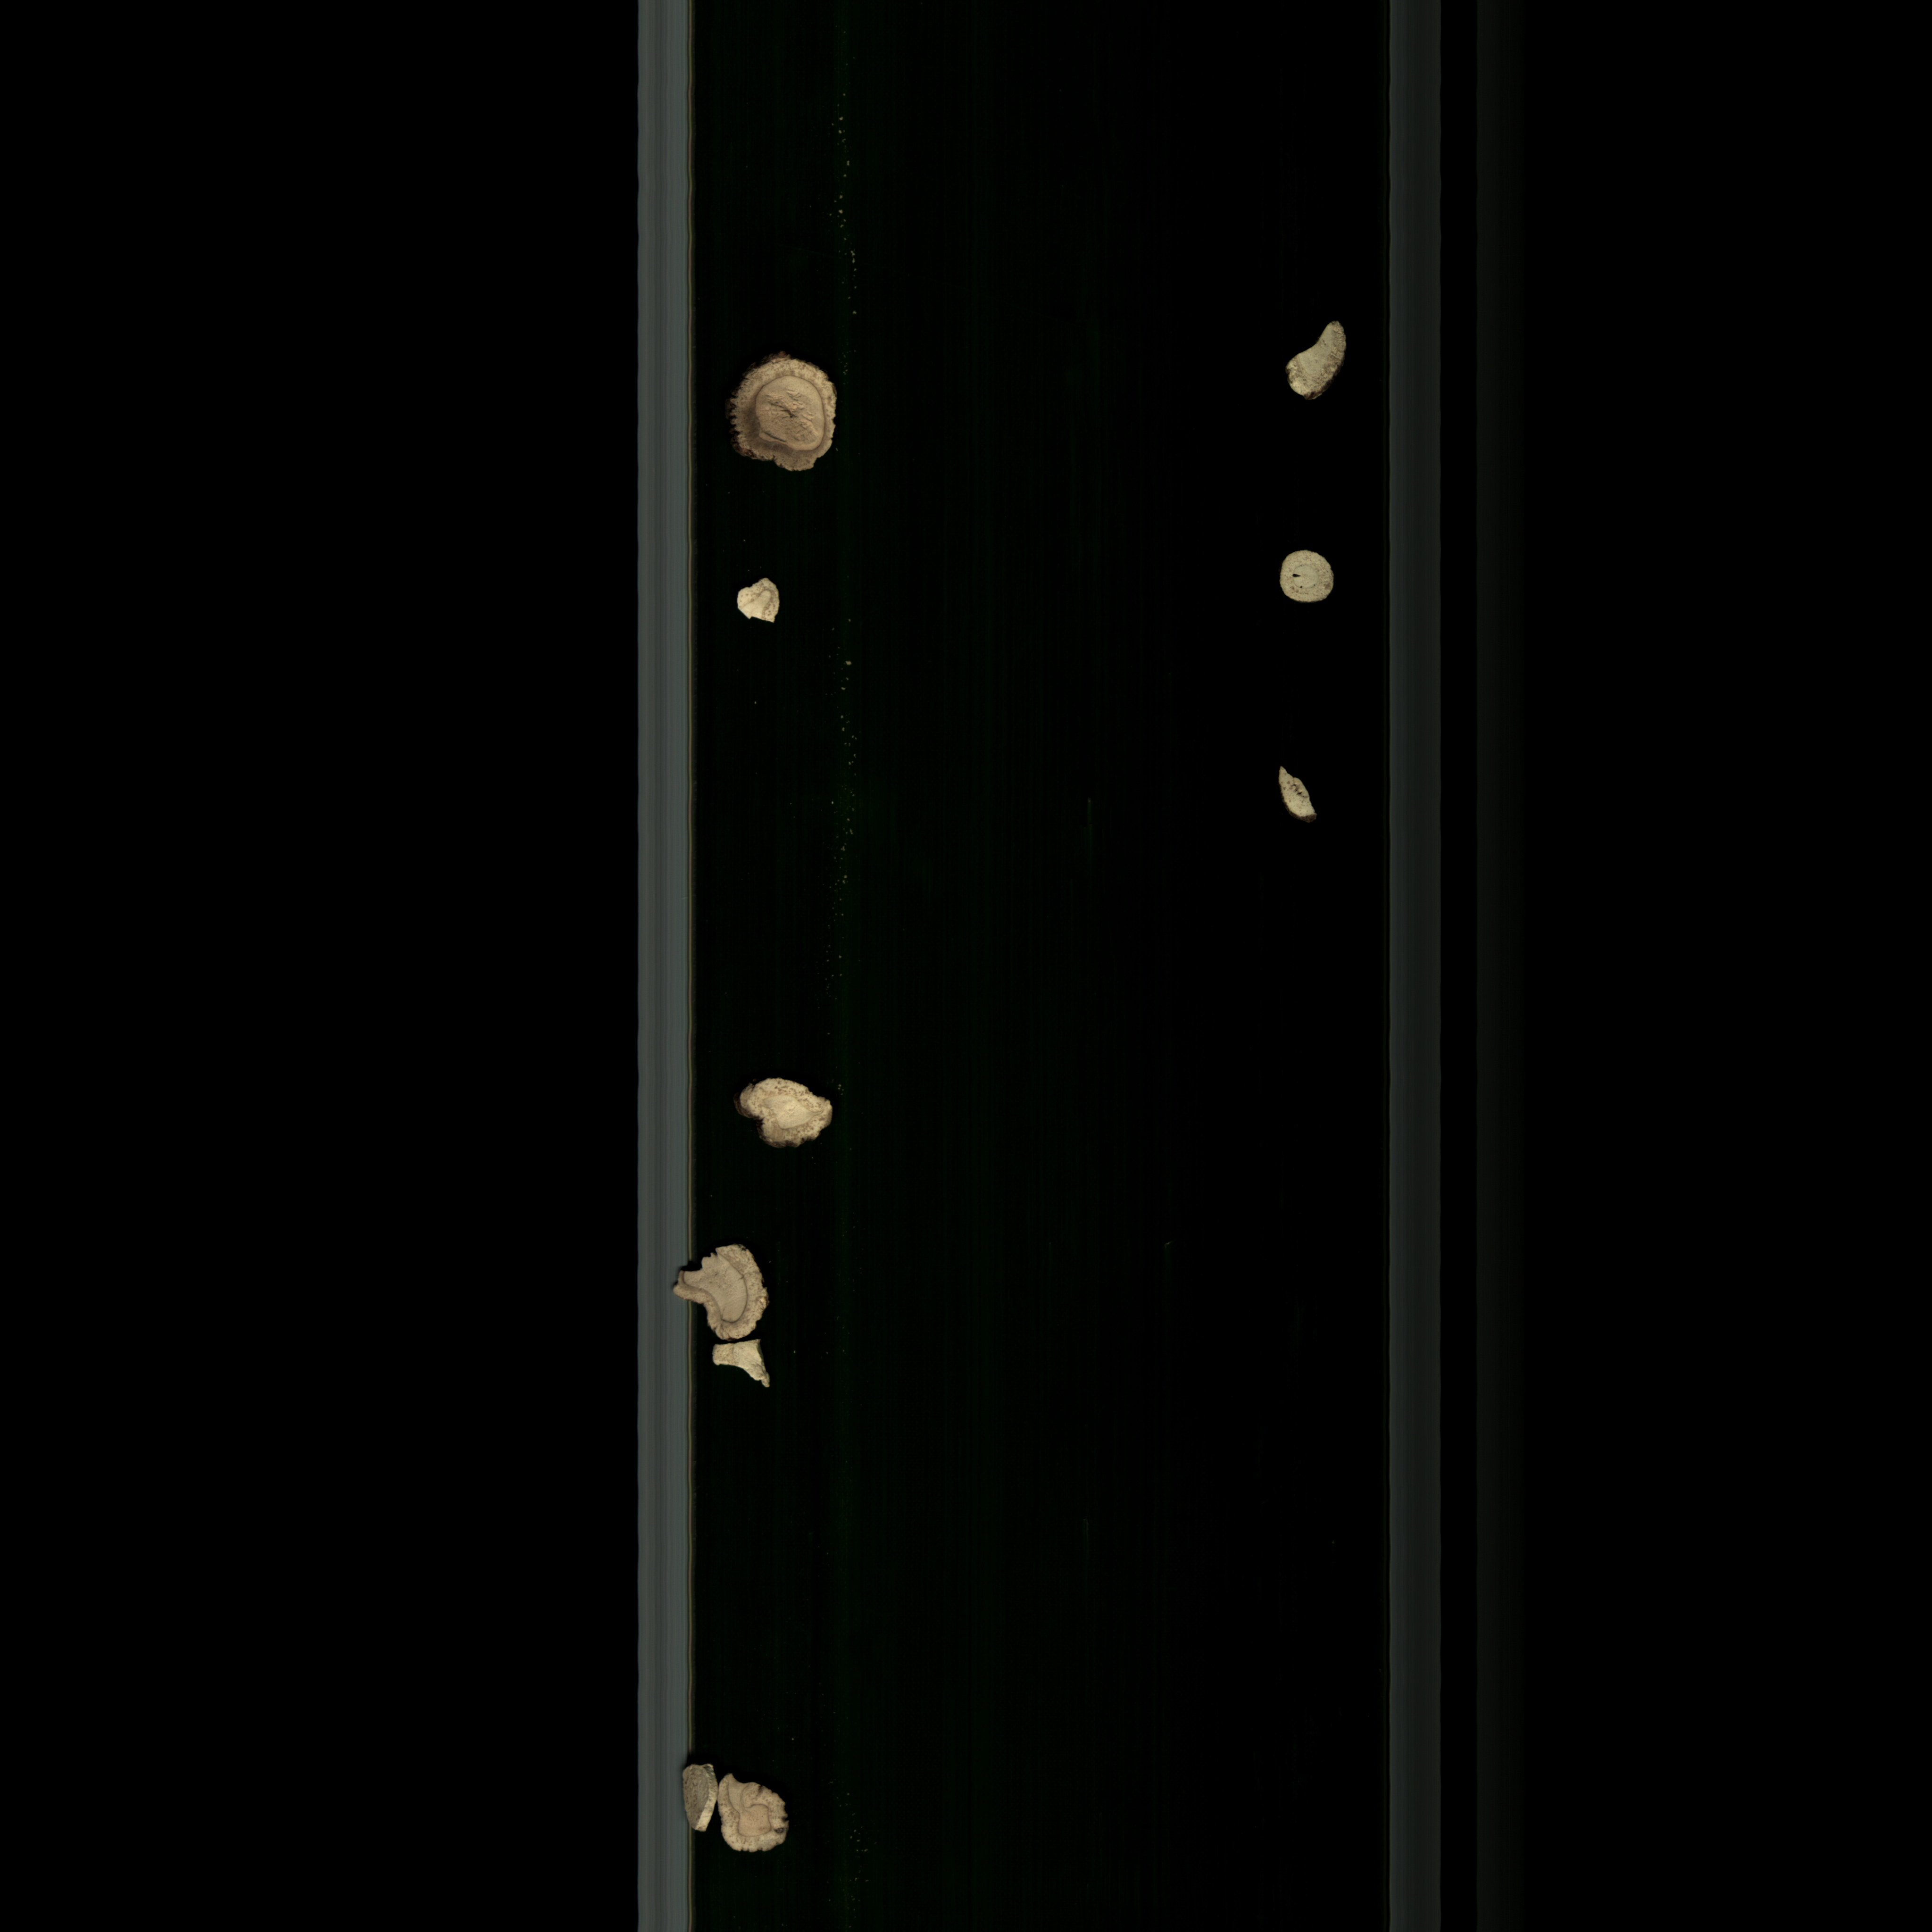debris: (665, 1246, 786, 1346), (717, 1771, 809, 1877), (1283, 311, 1369, 418)
distortion: (718, 1070, 847, 1154)
dreg: (708, 1330, 798, 1410), (1265, 761, 1341, 837), (724, 568, 789, 635), (672, 1753, 724, 1838)
hole: (1270, 538, 1352, 617)
moldy: (724, 343, 855, 488)
